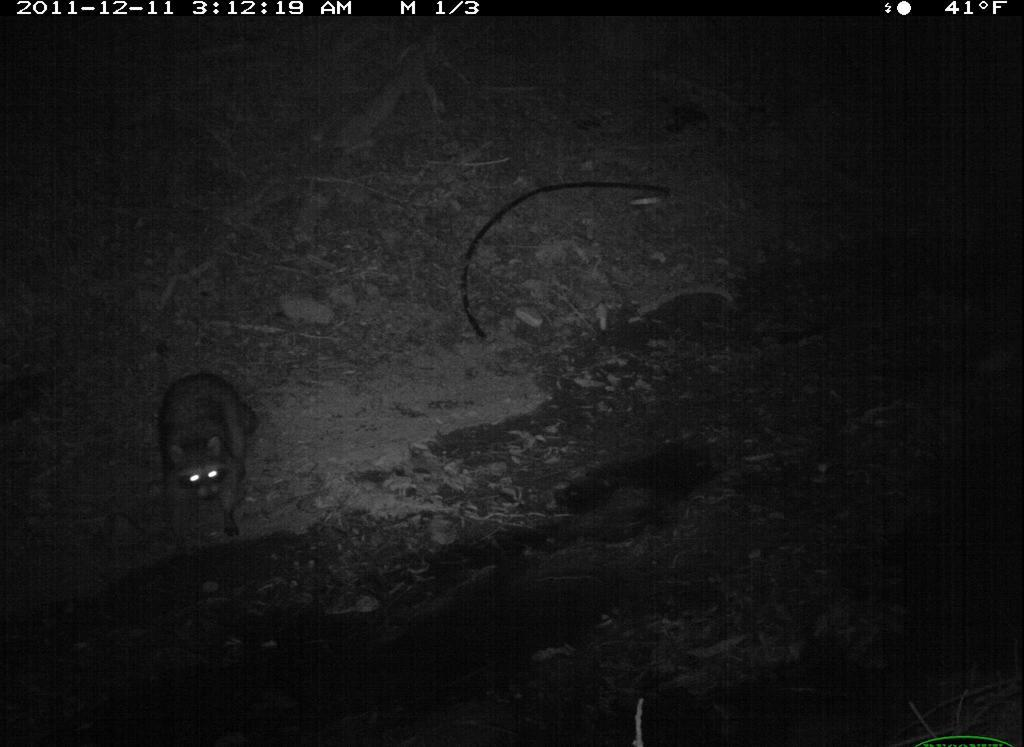raccoon: (145, 367, 271, 561)
